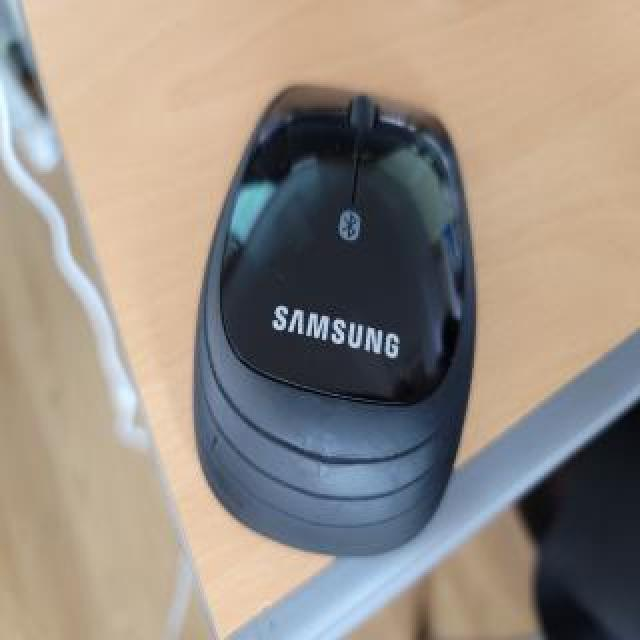mouse: (181, 45, 483, 595)
